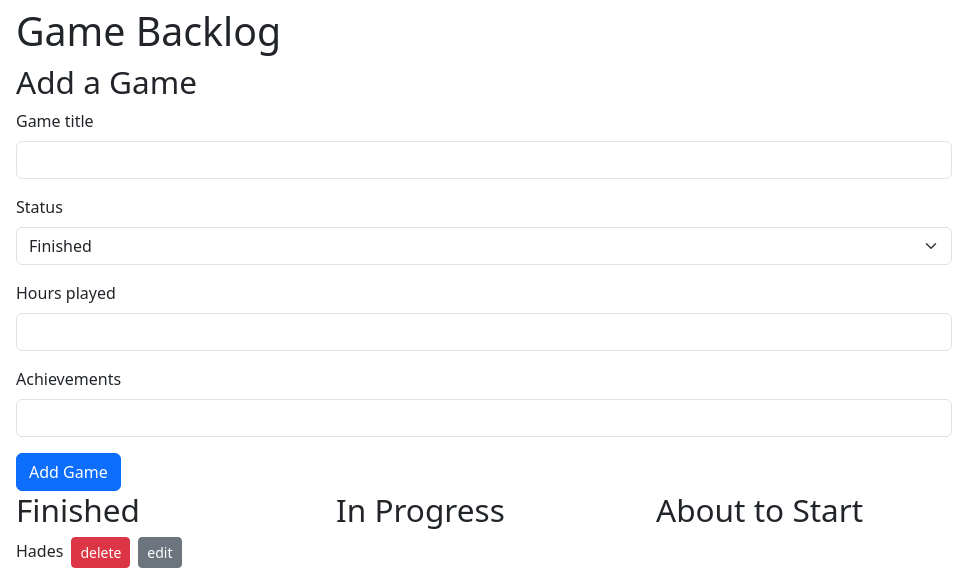
Test: clicking edit fills the form with the game
Click the button "edit": (160, 552) [138,537,182,568]
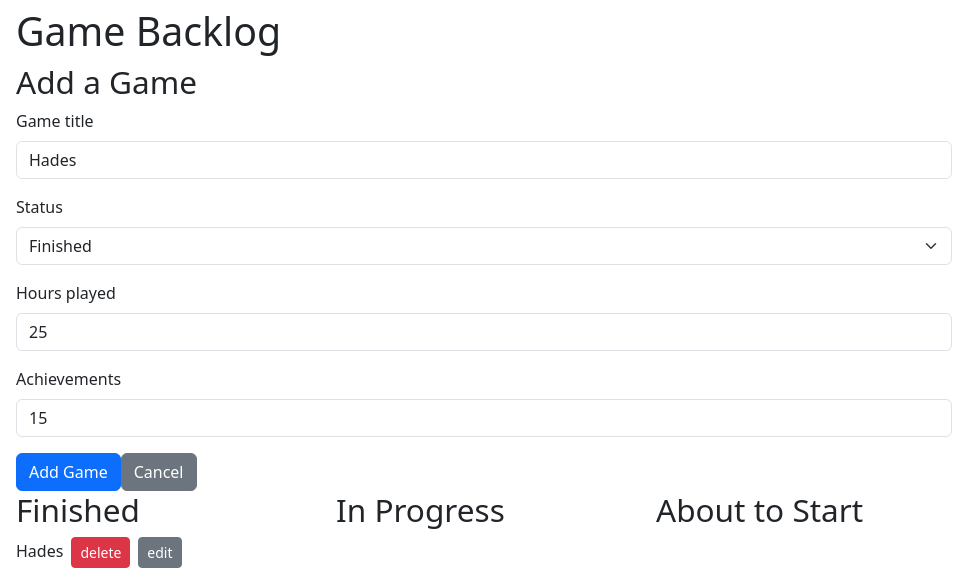
Expected: the field labelled "Game title" holds "Hades", [16,141,952,179]
Expected: the button "Cancel" is shown, [121,453,196,491]
